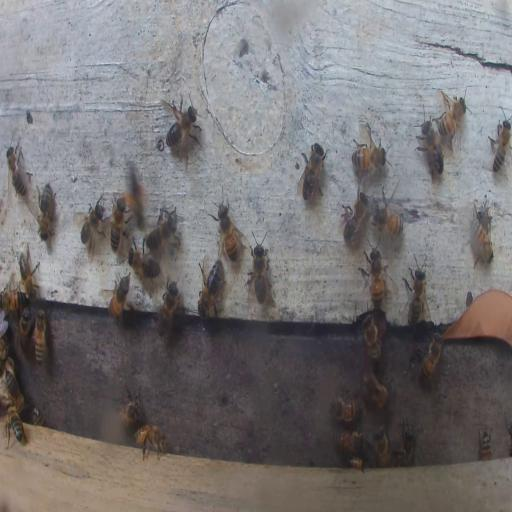bee: (160, 97, 201, 152), (296, 141, 328, 201), (404, 252, 428, 330), (77, 193, 107, 255), (416, 115, 446, 177), (142, 208, 180, 254), (246, 232, 270, 304), (214, 196, 240, 261), (438, 92, 468, 148), (196, 258, 224, 318), (121, 162, 147, 225), (155, 275, 180, 338), (340, 192, 370, 244), (471, 198, 493, 265), (133, 420, 168, 462), (488, 114, 511, 175), (374, 189, 404, 235), (417, 333, 444, 383), (6, 144, 30, 199), (363, 244, 384, 306), (102, 272, 129, 320), (17, 246, 40, 302), (36, 181, 56, 241), (128, 243, 159, 280), (351, 142, 389, 172), (361, 372, 389, 411), (395, 416, 416, 467), (330, 429, 368, 455), (110, 196, 127, 254), (3, 366, 24, 411), (363, 313, 381, 362), (330, 394, 360, 423), (119, 392, 143, 428), (372, 426, 392, 468), (5, 407, 25, 446), (33, 309, 47, 363), (2, 286, 26, 314), (20, 306, 32, 346), (479, 429, 493, 460), (28, 406, 44, 425), (348, 456, 366, 469)
